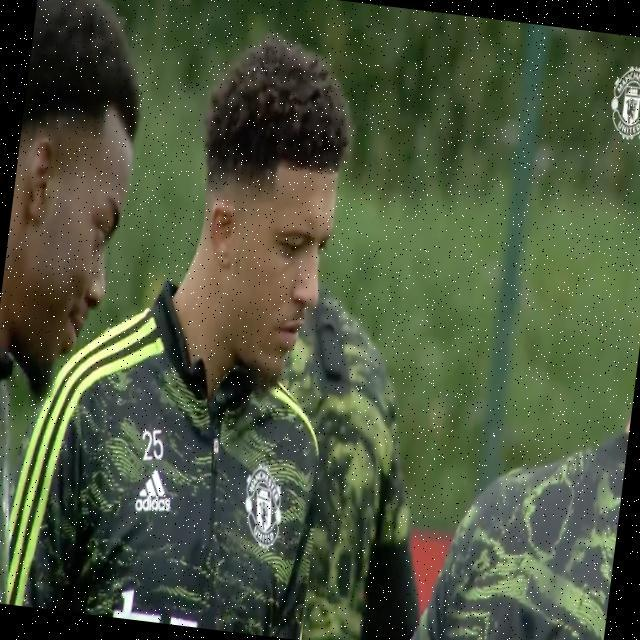Adidas: (134, 465, 177, 515)
